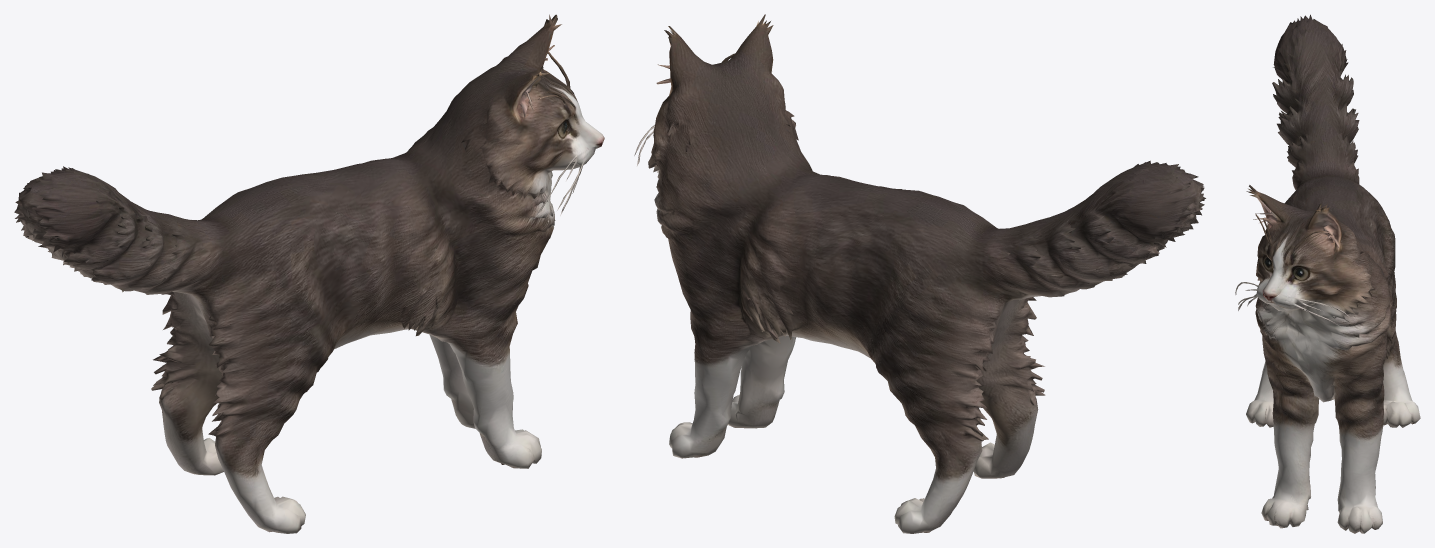
File: MITTENSCAT.glb
The picture shows the model from 3 angles, left to right: view 1: azimuth 30°, elevation 25°; view 2: azimuth 150°, elevation 25°; view 3: azimuth 270°, elevation 25°; orthographic projection. The views are drawn at different scales.
Visible parts, largest first — view 1: tripo_node_d91d6be8-ab1a-48e6-a53c-2db1814b003c; view 2: tripo_node_d91d6be8-ab1a-48e6-a53c-2db1814b003c; view 3: tripo_node_d91d6be8-ab1a-48e6-a53c-2db1814b003c.
Part boxes in pixels (x1,y1,x2,y2): tripo_node_d91d6be8-ab1a-48e6-a53c-2db1814b003c: (14,14,604,533); tripo_node_d91d6be8-ab1a-48e6-a53c-2db1814b003c: (634,14,1205,533); tripo_node_d91d6be8-ab1a-48e6-a53c-2db1814b003c: (1235,14,1420,533).
Bounding box in the file's own units: 1.44 × 1 × 0.4883.
1 material, 1 textured.
